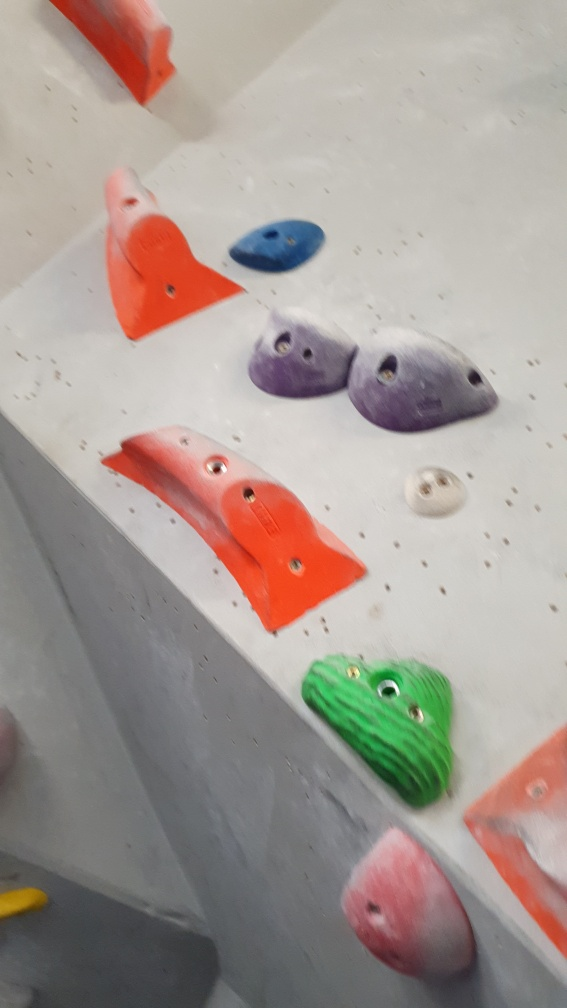Crimp: (227, 217, 329, 274)
Jug: (298, 643, 460, 804), (343, 328, 500, 435), (247, 311, 359, 406)
Pinch: (96, 418, 369, 641), (96, 161, 249, 346), (460, 723, 567, 963), (48, 1, 180, 106)
